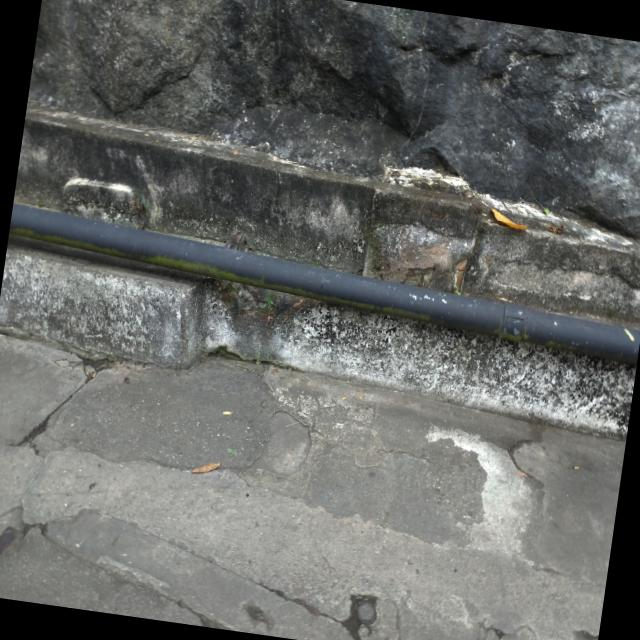gas: (8, 203, 640, 362)
